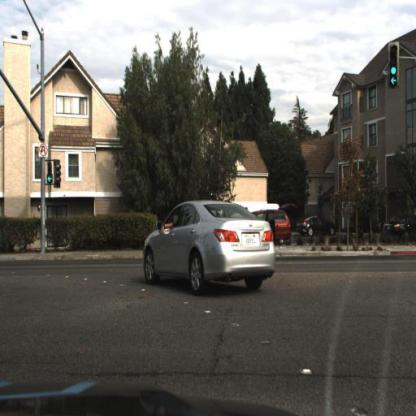car: (138, 198, 282, 306), (254, 208, 293, 245), (268, 207, 297, 242), (296, 214, 338, 235)
trafficLight-GreenLeft: (43, 168, 55, 191), (46, 158, 54, 186)
